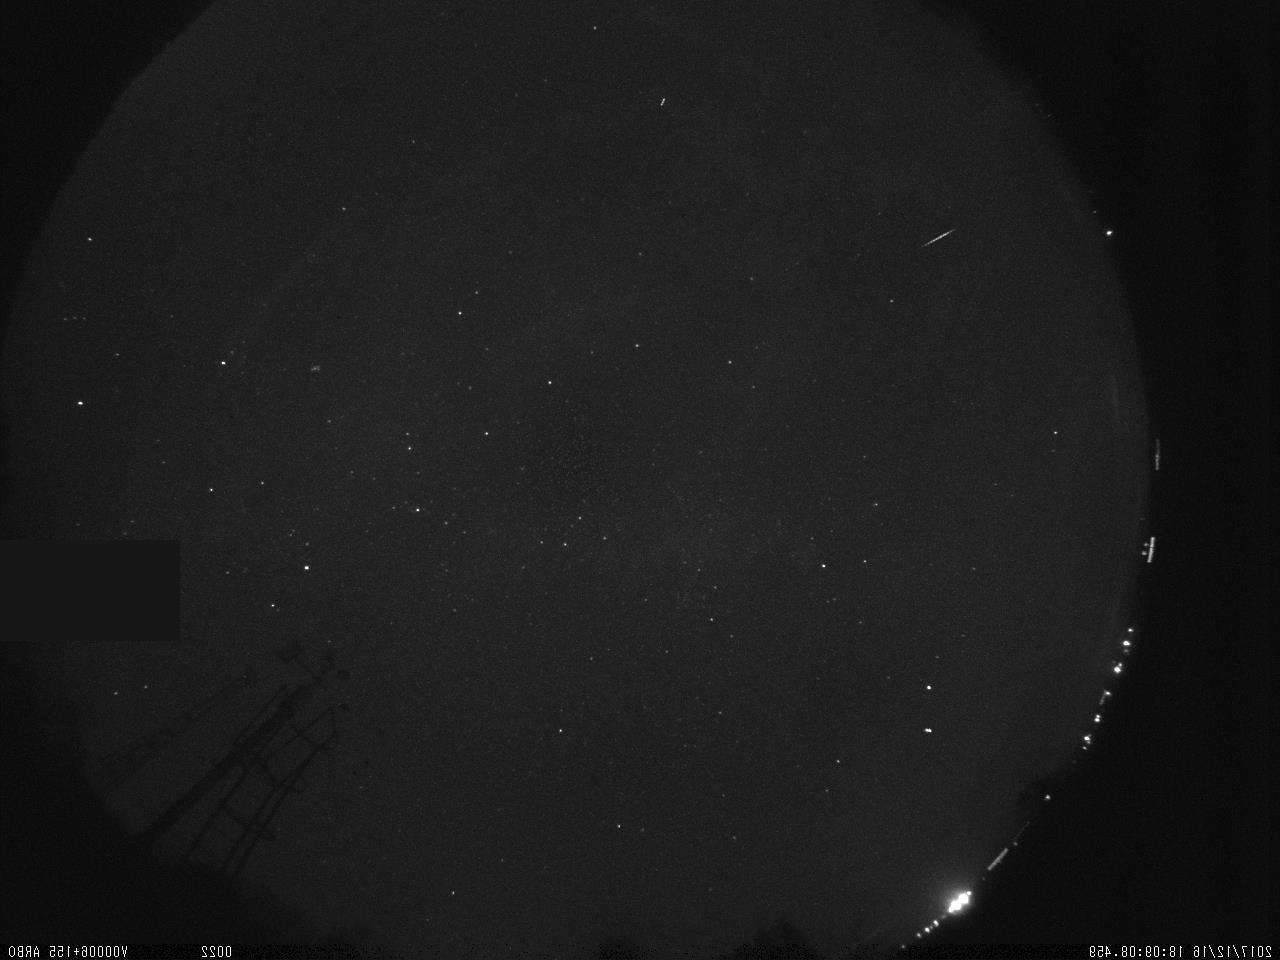meteor: (902, 224, 962, 271)
